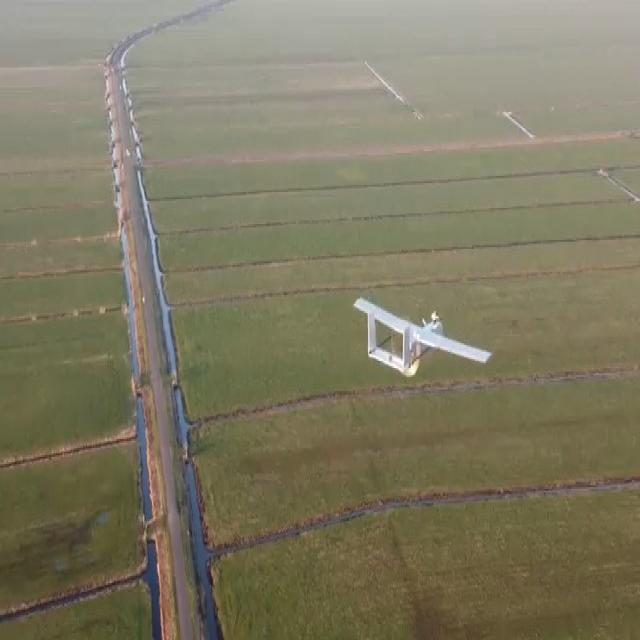iha: (359, 310, 491, 366)
